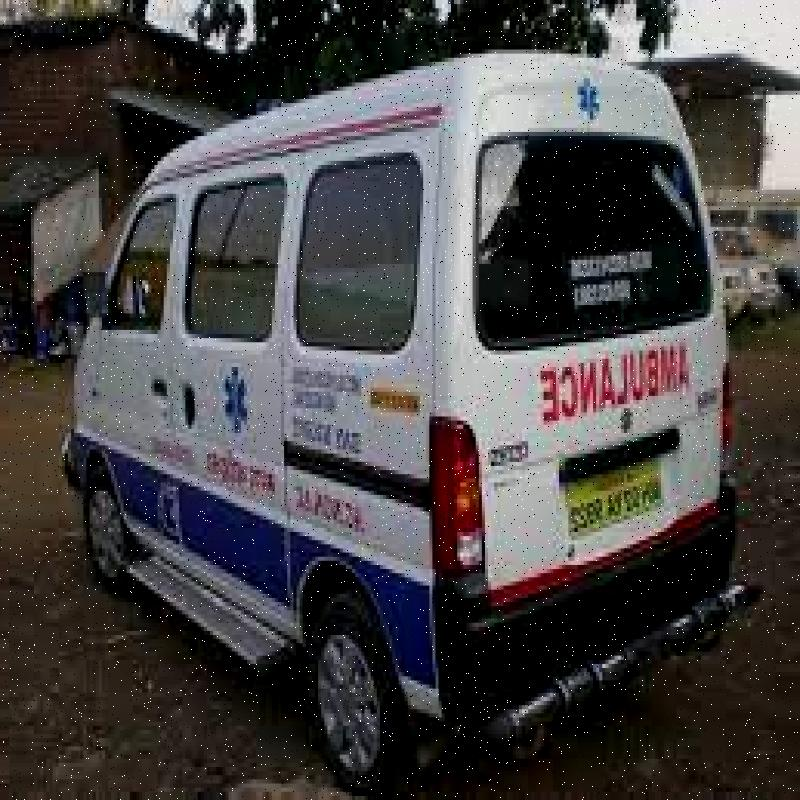ambulance: (90, 48, 726, 793)
